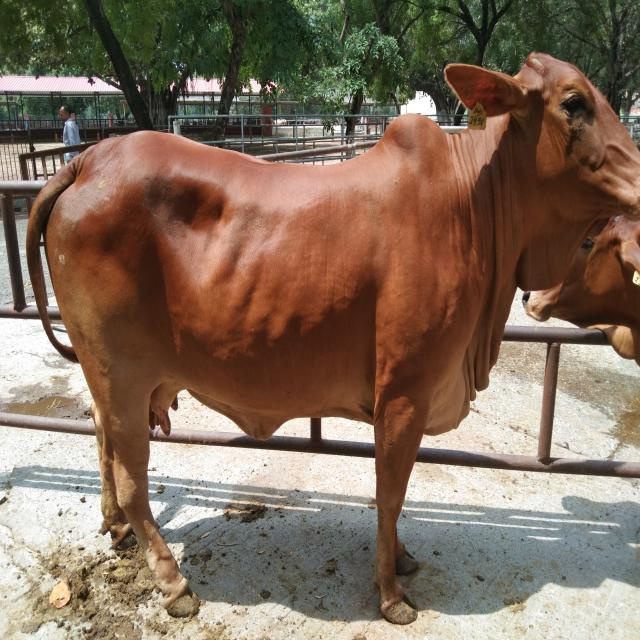Hoof: (379, 594, 418, 625)
